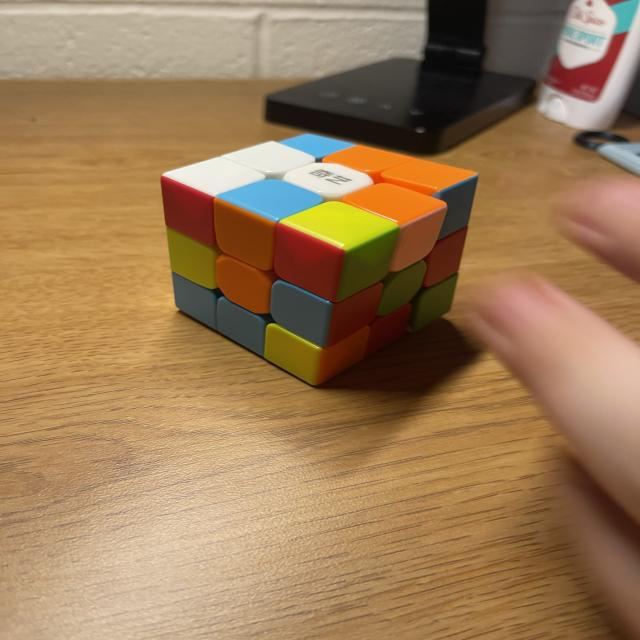Rubiks Cube: (158, 135, 479, 386)
